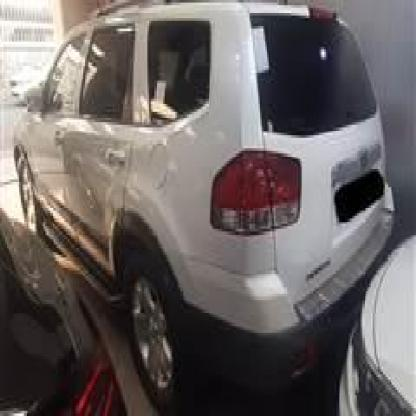Car: (0, 0, 383, 398), (341, 226, 416, 416)
